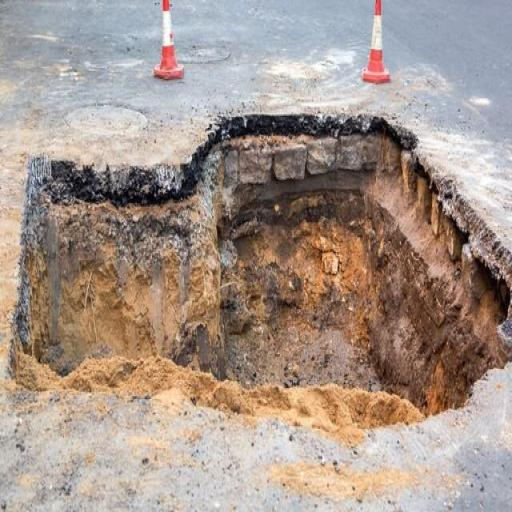Concentric_Crack: (11, 116, 512, 443)
